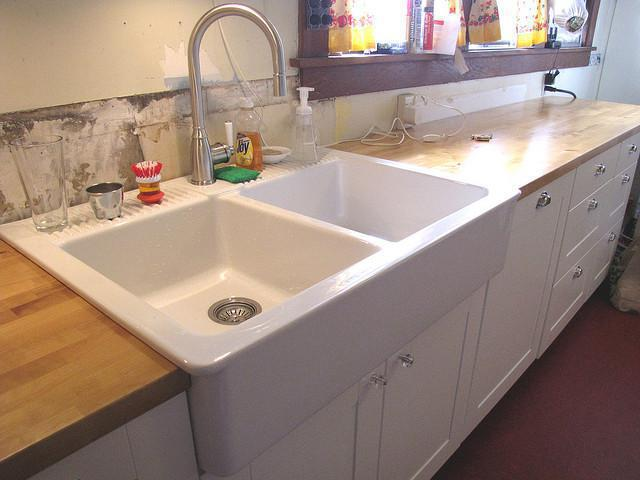Lavaplatos: (36, 1, 525, 403)
